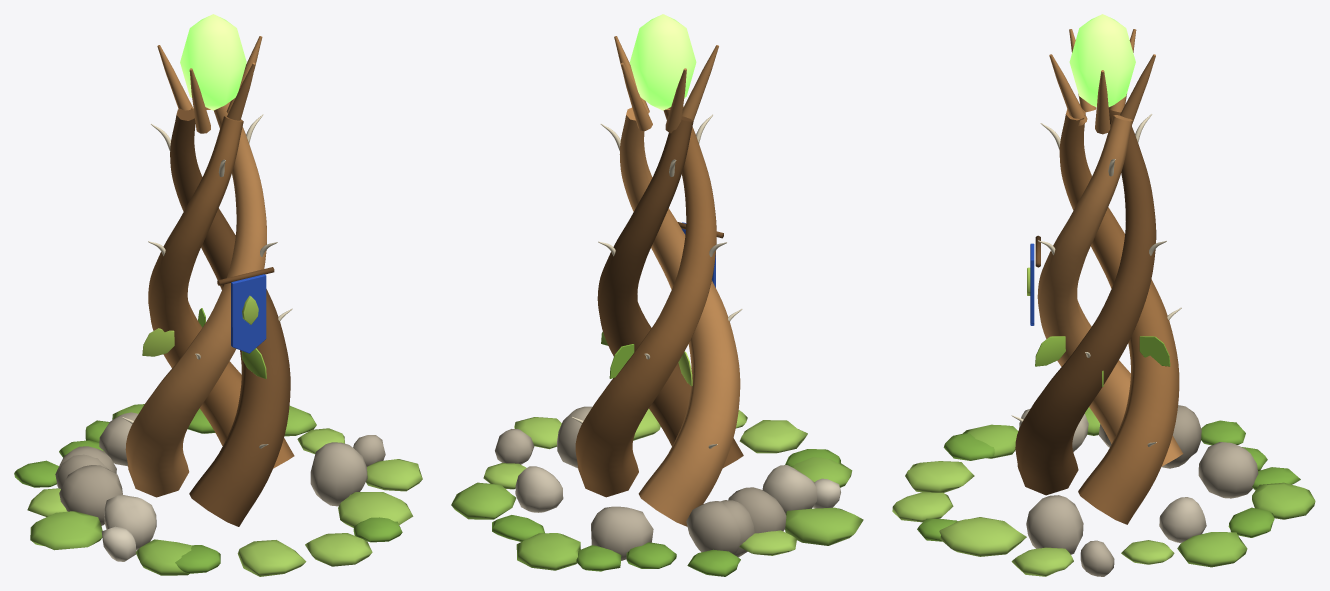
The model's file is b_spire.glb.
3 renders of one model, left to right at view 1: azimuth 30°, elevation 25°; view 2: azimuth 150°, elevation 25°; view 3: azimuth 270°, elevation 25°, orthographic.
Visible parts, largest first — view 1: root_matte#c08a52, root_matte#74502c, vine0, root_matte#a8d060, root_matte#b8ad98, root_matte#94c252, crystal, root_matte#7fb243, root_matte#a99e8a, bannerCloth, root_matte#c9bea8, root_matte#b6dc5c (+2 smaller); view 2: root_matte#c08a52, vine0, root_matte#74502c, root_matte#94c252, root_matte#a8d060, root_matte#7fb243, root_matte#b8ad98, crystal, root_matte#a99e8a, root_matte#c9bea8, root_matte#ece0c2, pebble10; view 3: root_matte#74502c, vine0, root_matte#c08a52, root_matte#a8d060, root_matte#b8ad98, root_matte#94c252, root_matte#7fb243, crystal, root_matte#c9bea8, root_matte#a99e8a, root_matte#9ccc4c, root_matte#ece0c2 (+1 smaller).
Part boxes in pixels (bbox=[...]): root_matte#c08a52: bbox=[125, 36, 266, 497]; root_matte#74502c: bbox=[170, 108, 290, 526]; vine0: bbox=[148, 115, 294, 468]; root_matte#a8d060: bbox=[27, 428, 422, 576]; root_matte#b8ad98: bbox=[99, 412, 385, 506]; root_matte#94c252: bbox=[30, 404, 316, 575]; crystal: bbox=[180, 14, 246, 110]; root_matte#7fb243: bbox=[14, 408, 402, 573]; root_matte#a99e8a: bbox=[55, 446, 122, 525]; bannerCloth: bbox=[231, 274, 266, 353]; root_matte#c9bea8: bbox=[104, 495, 156, 550]; root_matte#b6dc5c: bbox=[142, 295, 258, 356]; root_matte#c08a52: bbox=[614, 36, 740, 526]; vine0: bbox=[575, 106, 716, 497]; root_matte#74502c: bbox=[597, 116, 743, 467]; root_matte#94c252: bbox=[451, 457, 863, 570]; root_matte#a8d060: bbox=[483, 408, 807, 555]; root_matte#7fb243: bbox=[492, 449, 840, 576]; root_matte#b8ad98: bbox=[495, 406, 653, 560]; crystal: bbox=[629, 14, 696, 110]; root_matte#a99e8a: bbox=[686, 487, 786, 557]; root_matte#c9bea8: bbox=[515, 465, 817, 513]; root_matte#ece0c2: bbox=[571, 114, 742, 448]; pebble10: bbox=[813, 478, 840, 508]; root_matte#74502c: bbox=[1015, 106, 1156, 495]; vine0: bbox=[1059, 109, 1179, 524]; root_matte#c08a52: bbox=[1037, 29, 1183, 466]; root_matte#a8d060: bbox=[892, 461, 1174, 576]; root_matte#b8ad98: bbox=[1026, 442, 1258, 576]; root_matte#94c252: bbox=[963, 407, 1315, 567]; root_matte#7fb243: bbox=[917, 420, 1300, 541]; crystal: bbox=[1069, 14, 1135, 107]; root_matte#c9bea8: bbox=[1072, 413, 1206, 542]; root_matte#a99e8a: bbox=[1098, 405, 1201, 468]; root_matte#9ccc4c: bbox=[1035, 336, 1103, 386]; root_matte#ece0c2: bbox=[1011, 114, 1181, 446].
Bounding box in the file's own units: 2.15 × 2.79 × 2.17.
